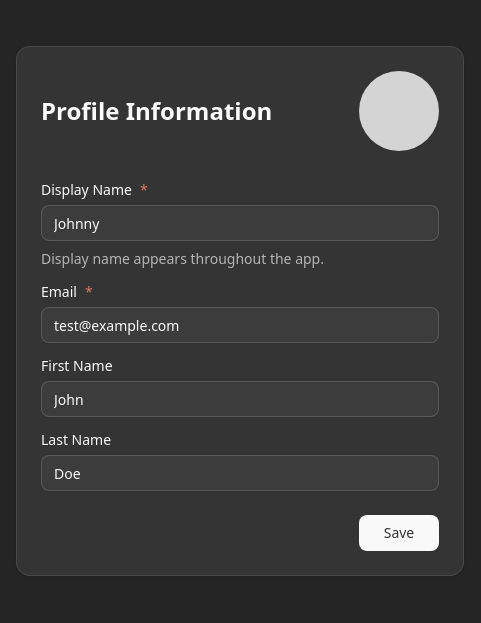
Test case: Account › Error Handling › displays error message when profile update fails
The width and height of the screenshot is (481, 623).
// Data is pre-loaded, no waiting needed
Step 1. Replace the text in the field labelled "Display Name" with "Updated Name" → (240, 223), box x1=41 y1=205 x2=439 y2=241
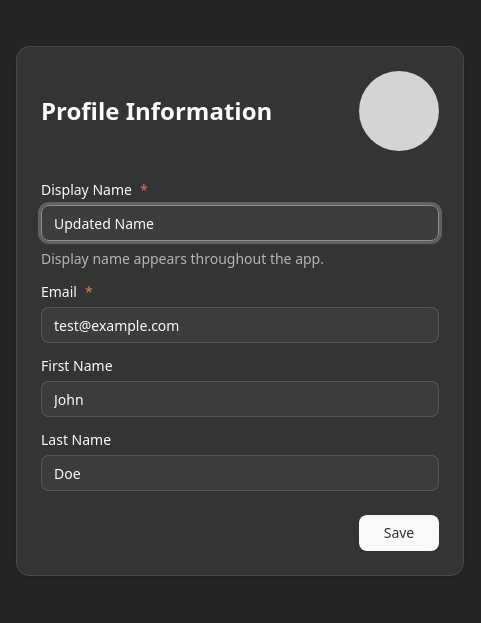
Step 2. Click the button "Save" → (399, 533), box x1=359 y1=515 x2=439 y2=551
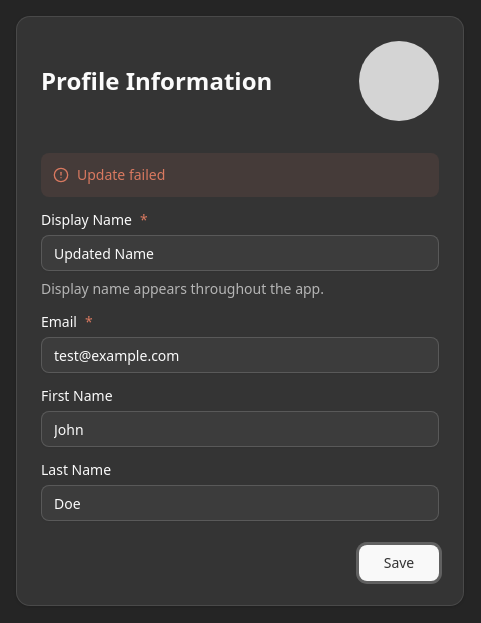
Expected: the message reads "Update failed", x1=77 y1=165 x2=165 y2=184
